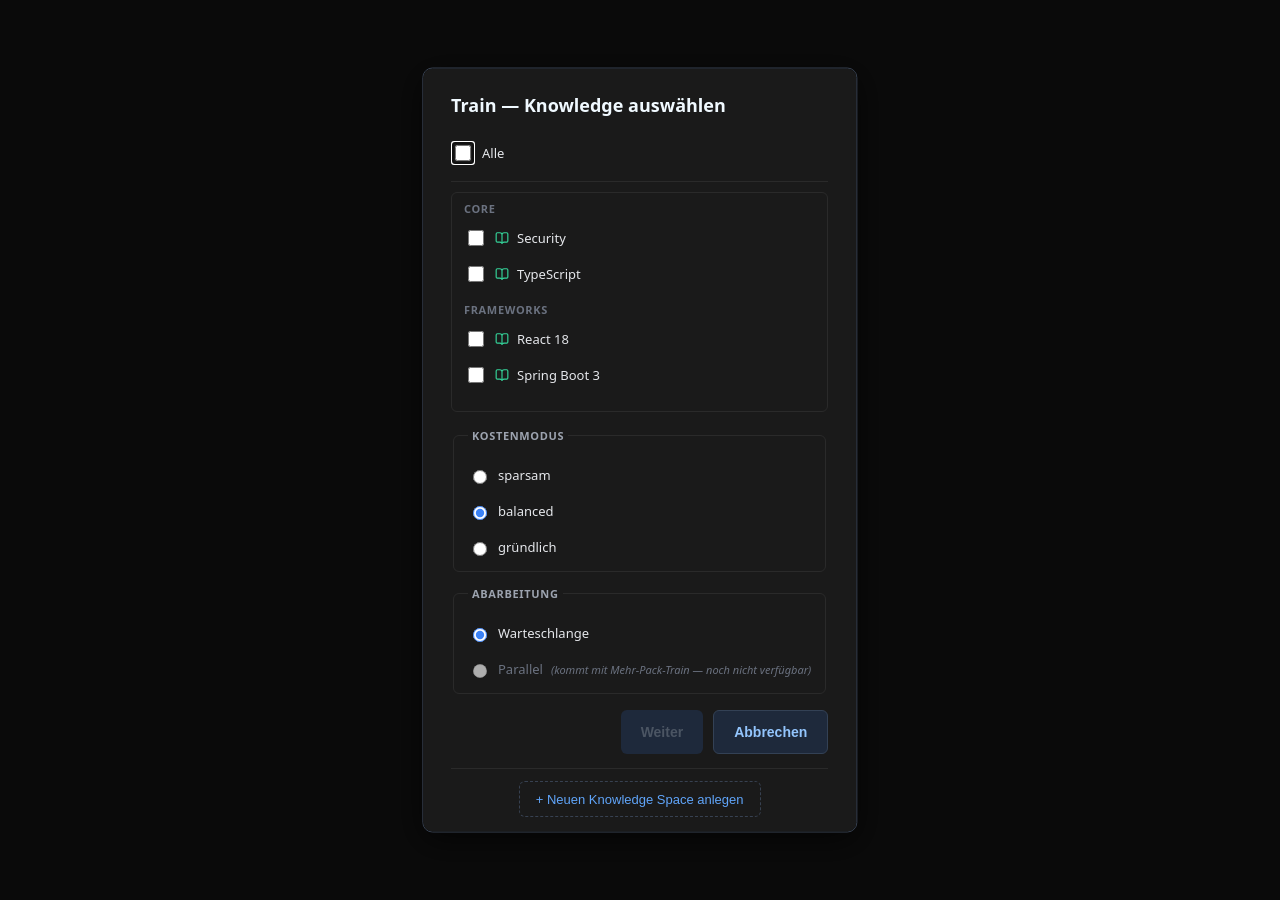
TrainDialog — AC3: „Alle"-Master-Checkbox › Alle einzeln anwählen → „Alle"-Checkbox checked (nicht indeterminate)
Click the checkbox with test id "check-security" at {"x": 476, "y": 238}, box [468,230,484,246]
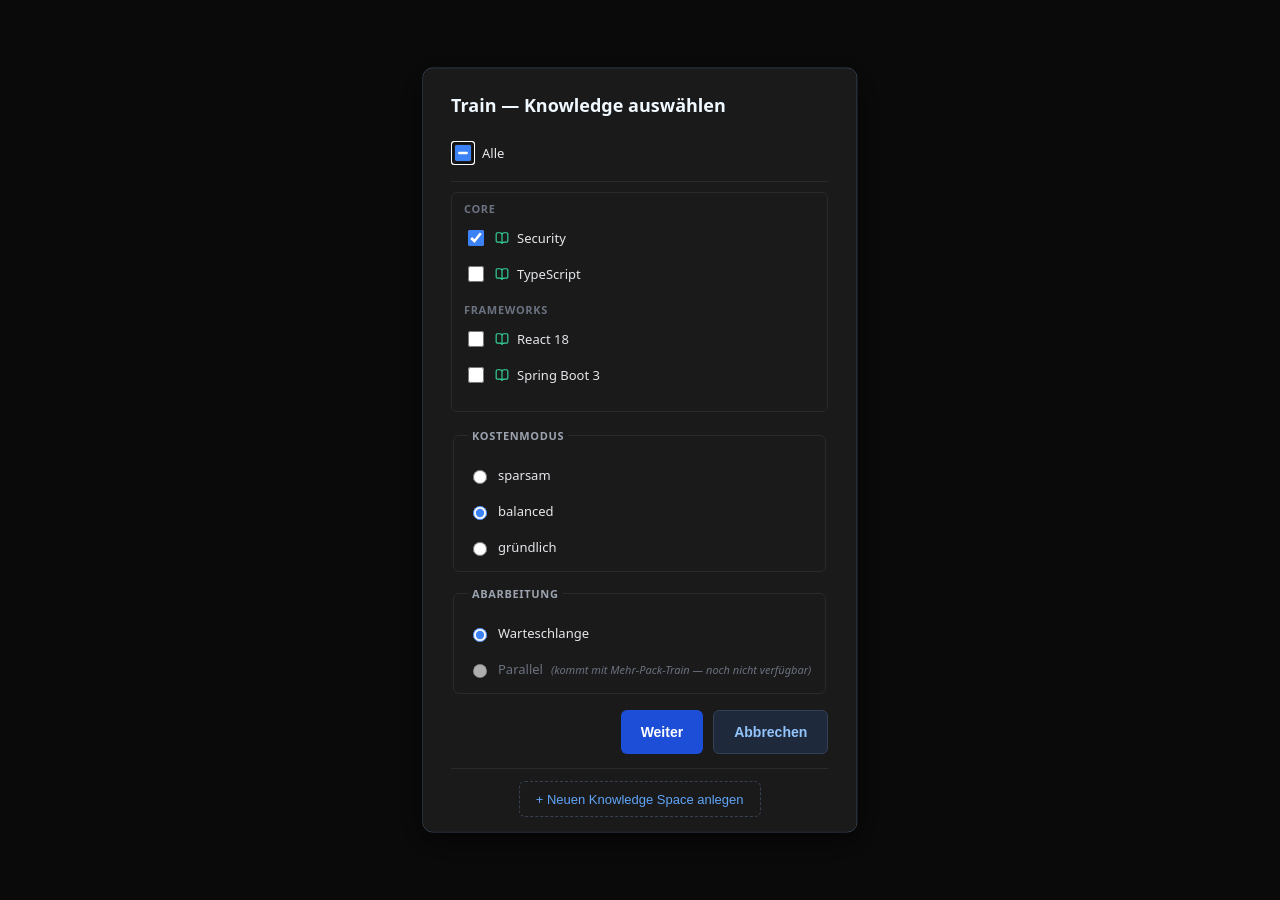
Click the checkbox with test id "check-typescript" at {"x": 476, "y": 274}, box [468,266,484,282]
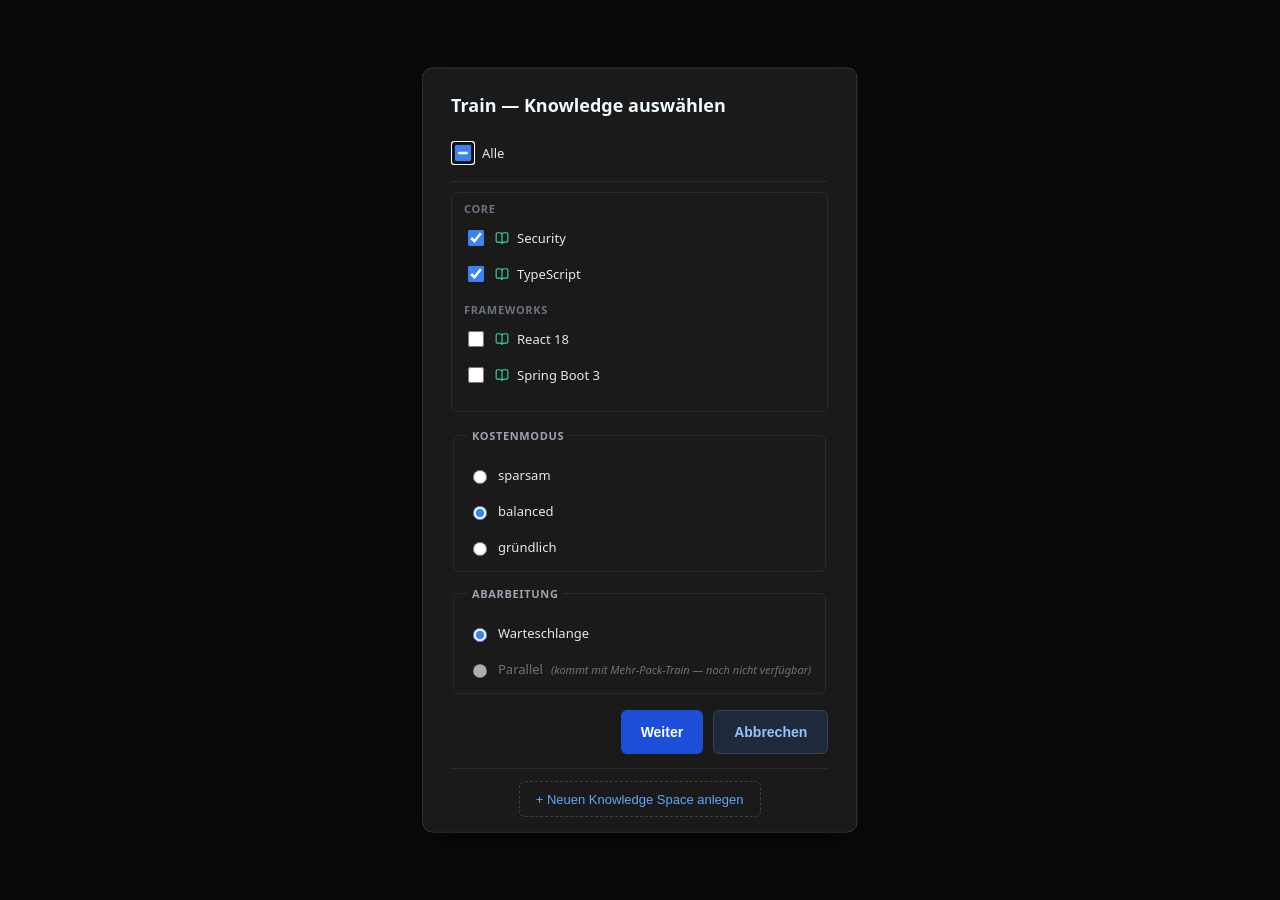
Click the checkbox labelled "React 18" at {"x": 476, "y": 338}, box [468,330,484,346]
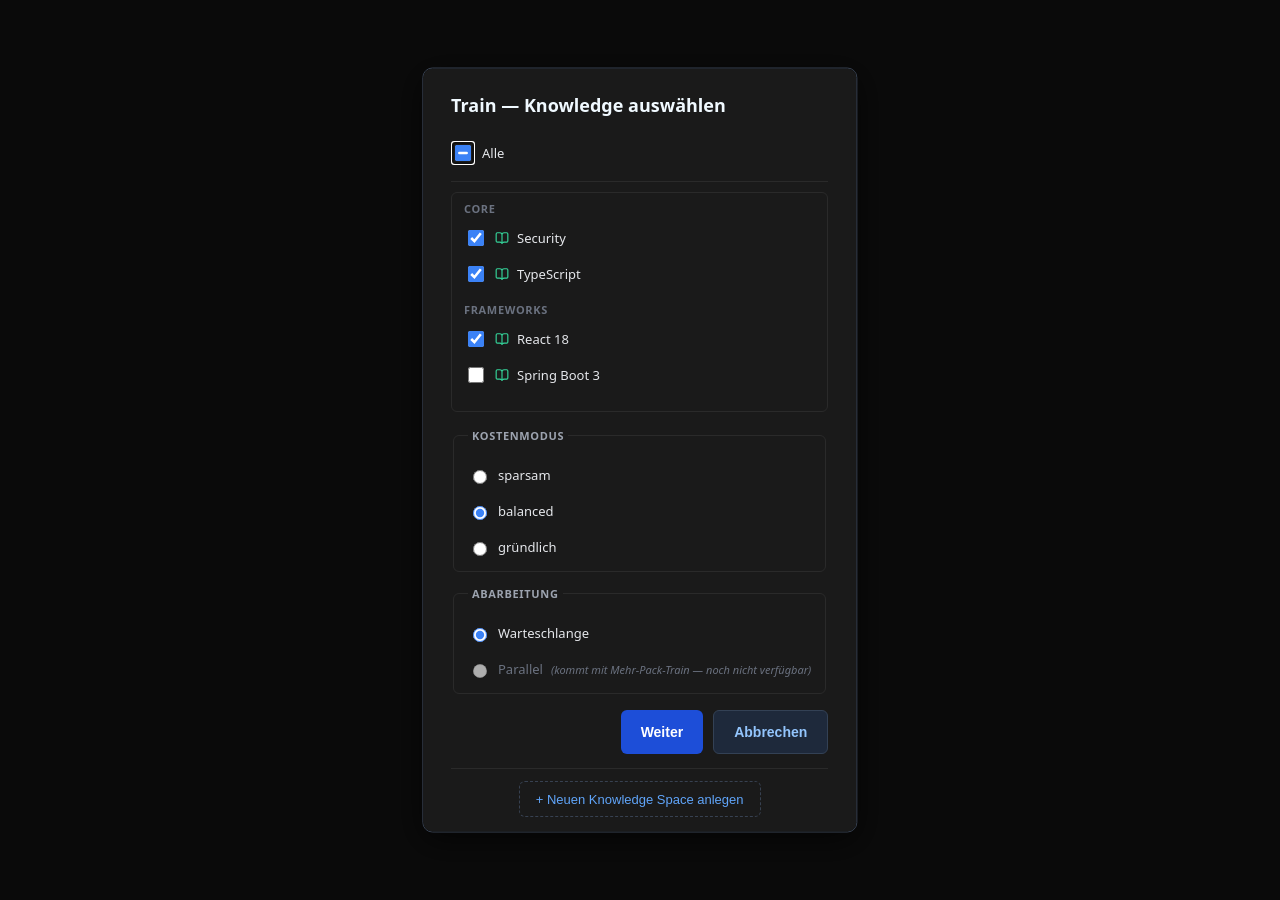
Click the checkbox labelled "Spring Boot 3" at {"x": 476, "y": 374}, box [468,366,484,382]
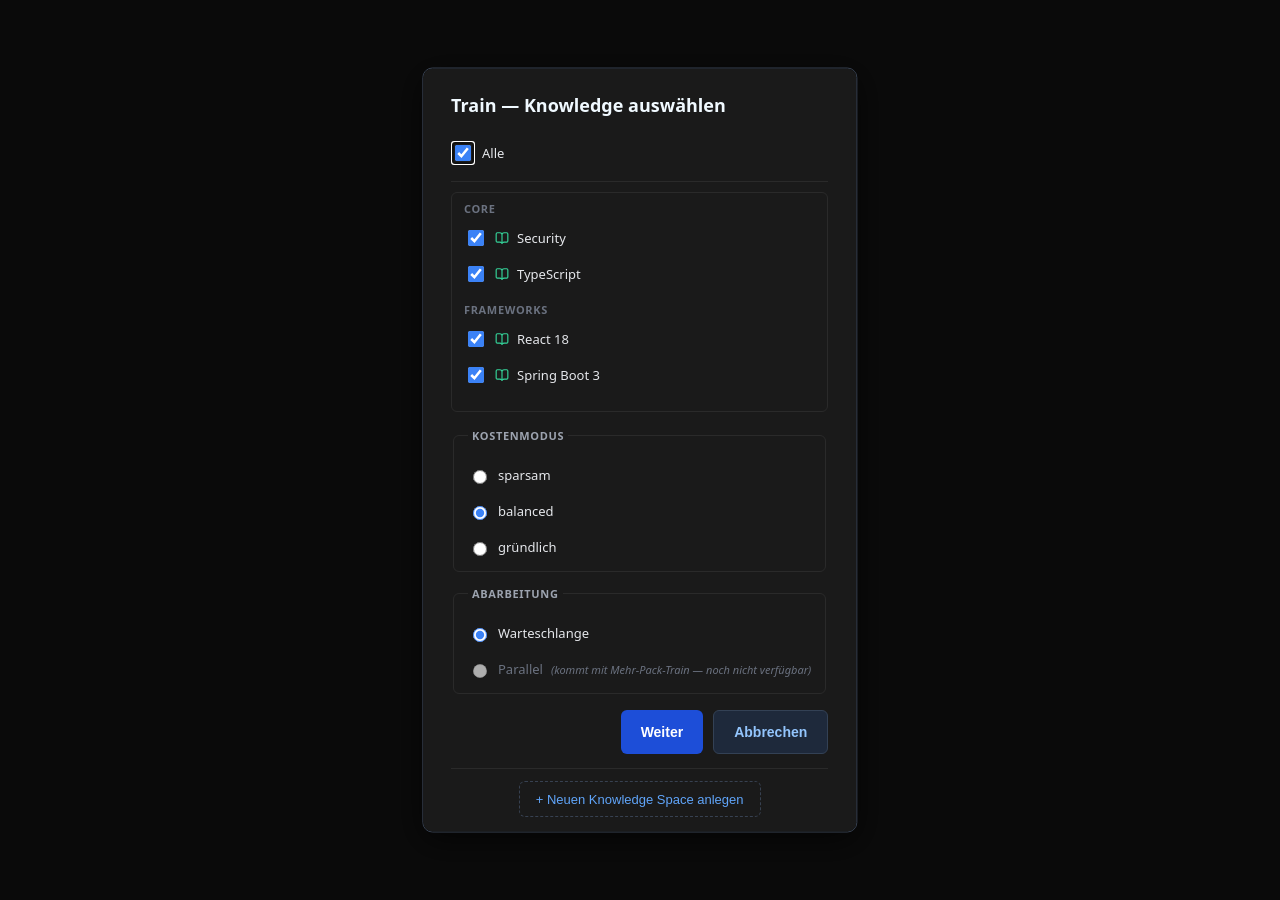
Result: the checkbox with test id "check-all" is checked at [455,144,471,160]
